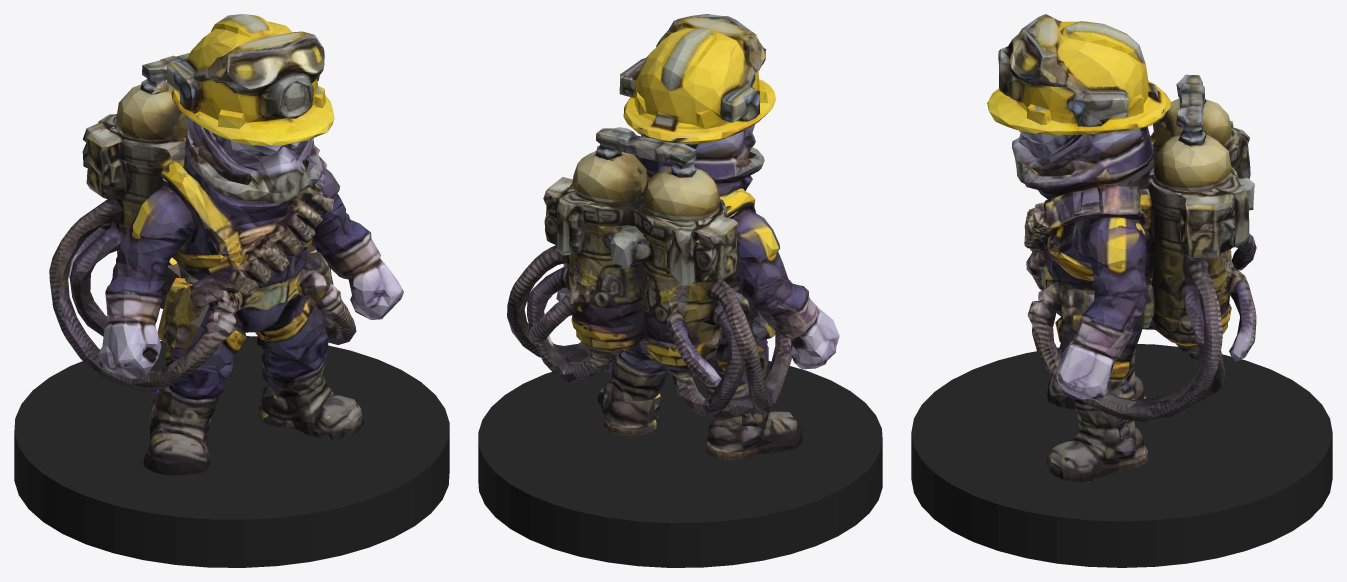
The model's file is wb-neophyte-gunner.glb.
The picture shows the model from 3 angles, left to right: view 1: azimuth 30°, elevation 25°; view 2: azimuth 150°, elevation 25°; view 3: azimuth 270°, elevation 25°; orthographic projection. The views are drawn at different scales.
Parts seen in each view (by area): view 1: figure, base; view 2: figure, base; view 3: figure, base.
Boxes of the visible parts, box(x1,y1,x2,y2) form: figure: box(49, 14, 403, 475); base: box(14, 336, 449, 567); figure: box(507, 14, 839, 460); base: box(478, 358, 882, 567); figure: box(987, 14, 1256, 482); base: box(911, 344, 1332, 567).
Bounding box in the file's own units: 0.9843 × 1.17 × 0.9843.
2 materials, 1 textured.
